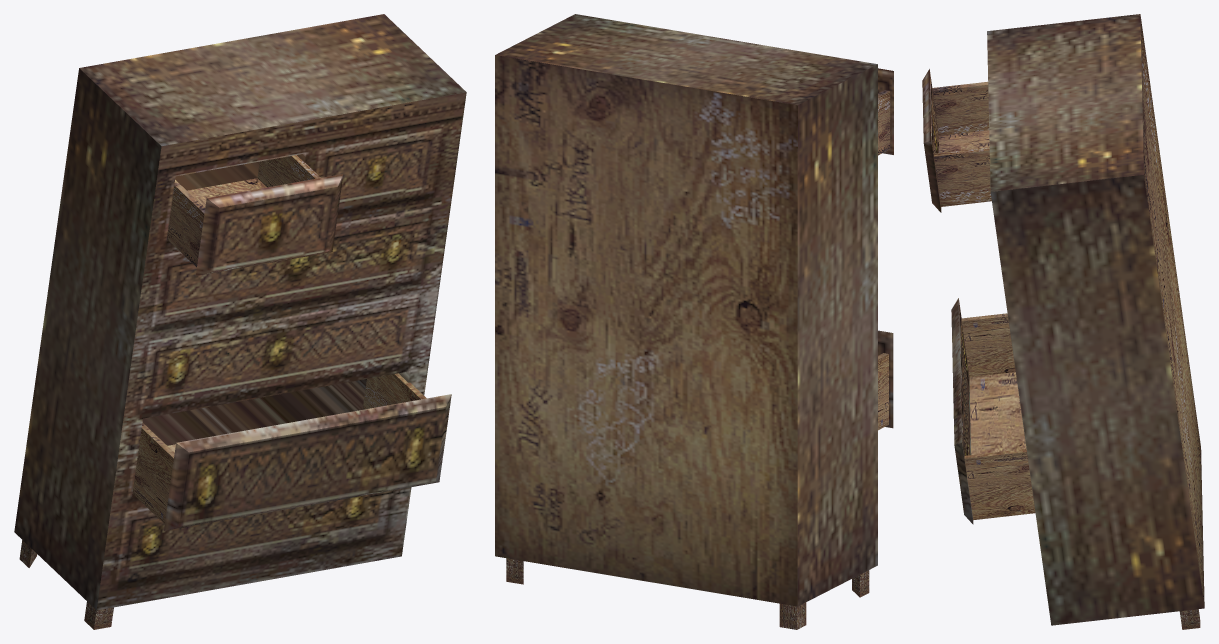
Rendered from Dresser.glb.
3 views of the same model, side by side, from view 1: azimuth 30°, elevation 25°; view 2: azimuth 150°, elevation 25°; view 3: azimuth 270°, elevation 25° (orthographic). The views are drawn at different scales.
Parts seen in each view (by area): view 1: _Dresser; view 2: _Dresser; view 3: _Dresser.
Part boxes in pixels (x1,y1,x2,y2): _Dresser: (14,14,466,629); _Dresser: (495,14,893,629); _Dresser: (922,14,1204,629).
Bounding box in the file's own units: 1.13 × 1.69 × 0.8714.
1 material, 1 textured.
